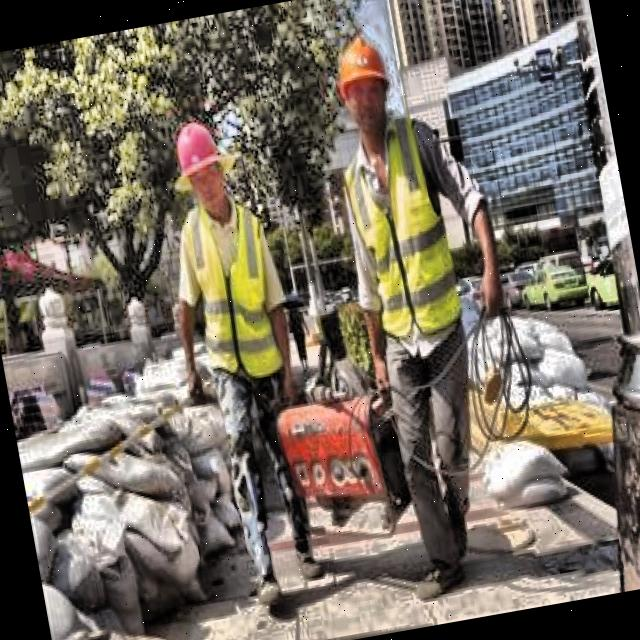helmet: (162, 106, 240, 230), (324, 28, 403, 147)
